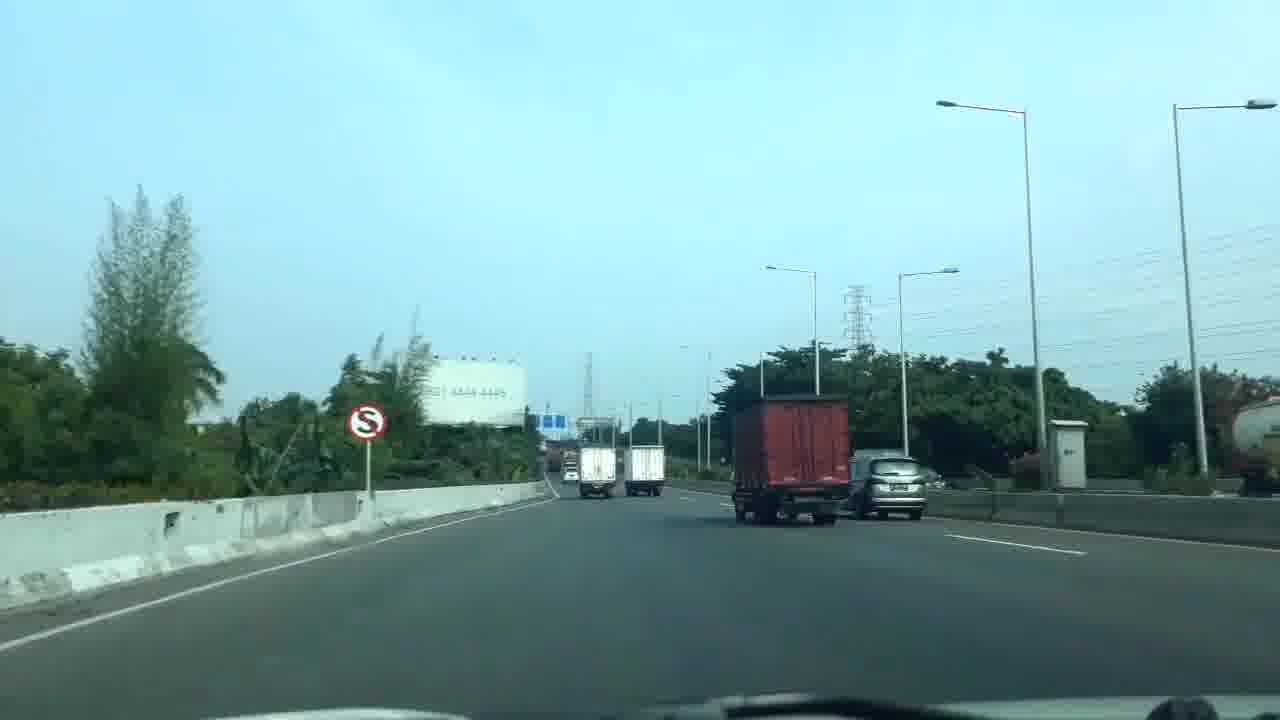plate_positive: (889, 483, 908, 490)
